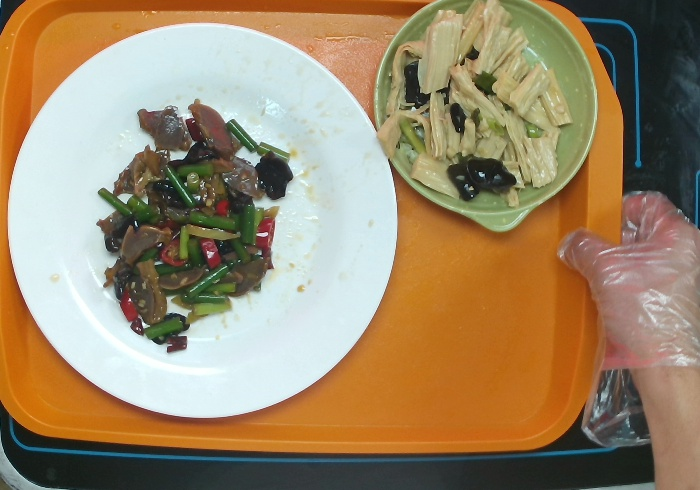NLDX-Da_Yuan_Pan: (3, 12, 406, 410)
NLDX-Lv_Hua_Shuang_Er_Die: (368, 1, 603, 232)
